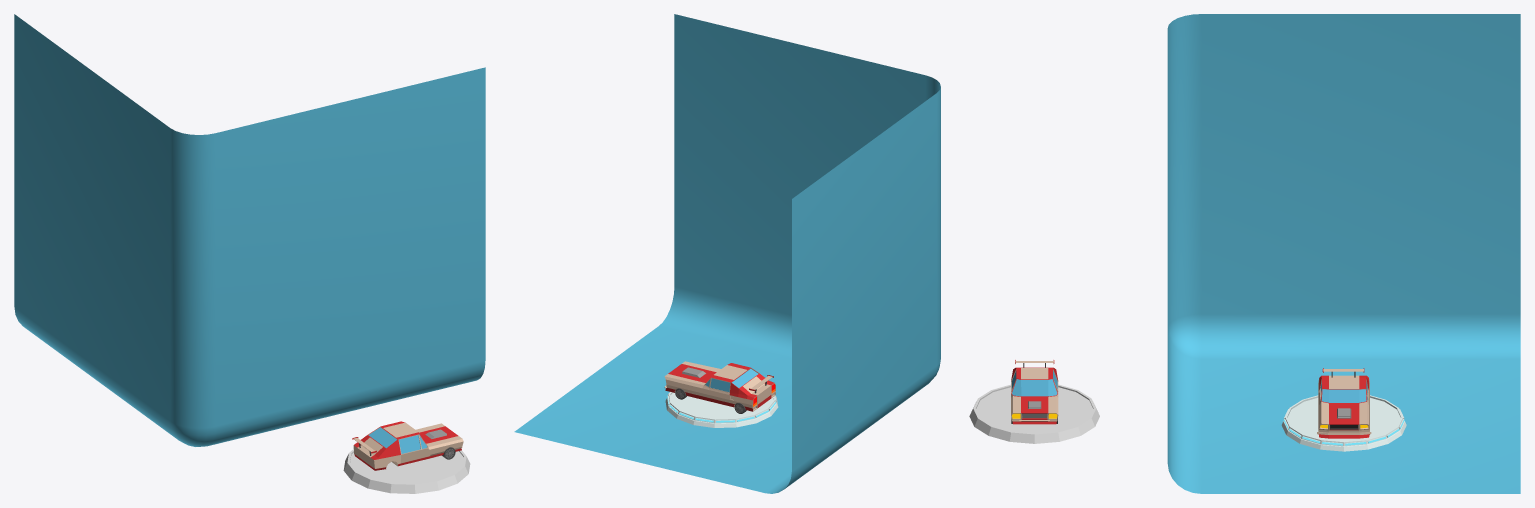
File: lowpolyCar.glb
3 renders of one model, left to right at view 1: azimuth 30°, elevation 25°; view 2: azimuth 150°, elevation 25°; view 3: azimuth 270°, elevation 25°, orthographic. The views are drawn at different scales.
Visible parts, largest first — view 1: Plane, Cylinder.002, Cube; view 2: Plane, Cube.002, Cylinder.004; view 3: Plane, Cylinder.002, Cylinder.004, Cube.002, Cube.
Boxes of the visible parts, bbox=[...] form: Plane: bbox=[14, 14, 485, 446]; Cylinder.002: bbox=[343, 449, 470, 493]; Cube: bbox=[353, 421, 463, 470]; Plane: bbox=[514, 14, 940, 493]; Cube.002: bbox=[664, 361, 775, 411]; Cylinder.004: bbox=[665, 392, 778, 427]; Plane: bbox=[1167, 14, 1520, 493]; Cylinder.002: bbox=[969, 384, 1099, 443]; Cylinder.004: bbox=[1281, 395, 1406, 451]; Cube.002: bbox=[1317, 375, 1371, 438]; Cube: bbox=[1011, 367, 1058, 424].
Size of the model in its own units: 18.34 by 18.97 by 28.65.
